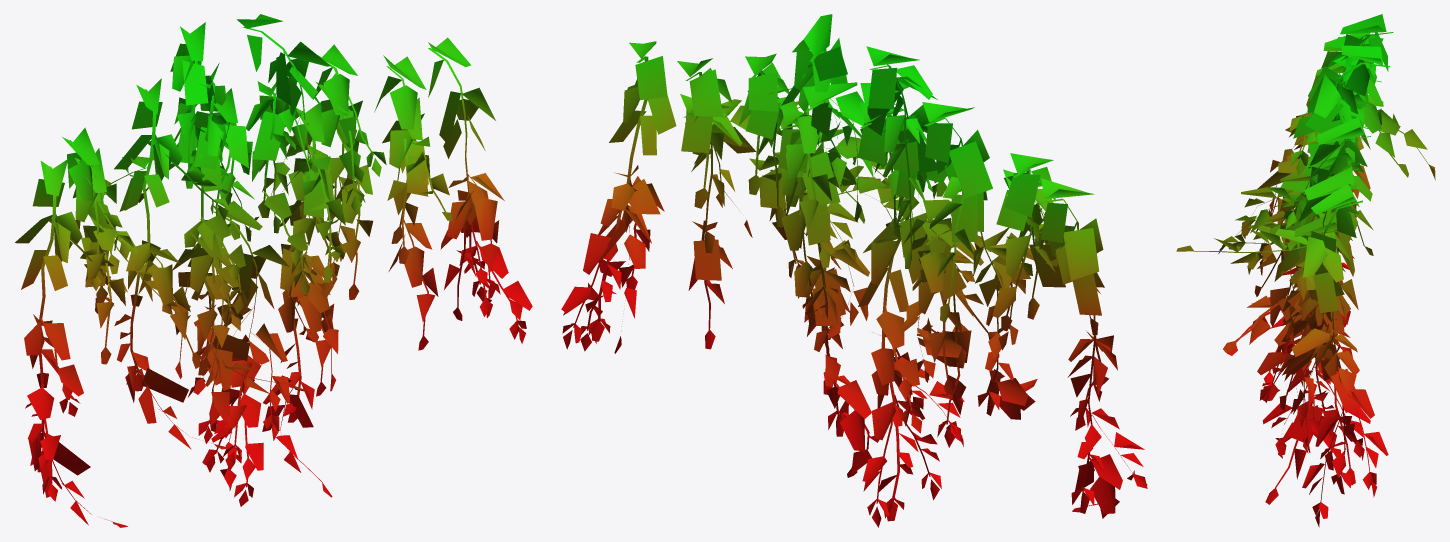
The model's file is Var6_LOD4.fbx.
3 renders of one model, left to right at view 1: azimuth 30°, elevation 25°; view 2: azimuth 150°, elevation 25°; view 3: azimuth 270°, elevation 25°, orthographic. The views are drawn at different scales.
Visible parts, largest first — view 1: _fk96_Var6_LOD4; view 2: _fk96_Var6_LOD4; view 3: _fk96_Var6_LOD4.
Boxes of the visible parts, left/top/right/bottom form: _fk96_Var6_LOD4: left=15, top=14, right=532, bottom=527; _fk96_Var6_LOD4: left=561, top=14, right=1147, bottom=527; _fk96_Var6_LOD4: left=1176, top=14, right=1435, bottom=527.
Bounding box in the file's own units: 111 × 95.91 × 50.21.
